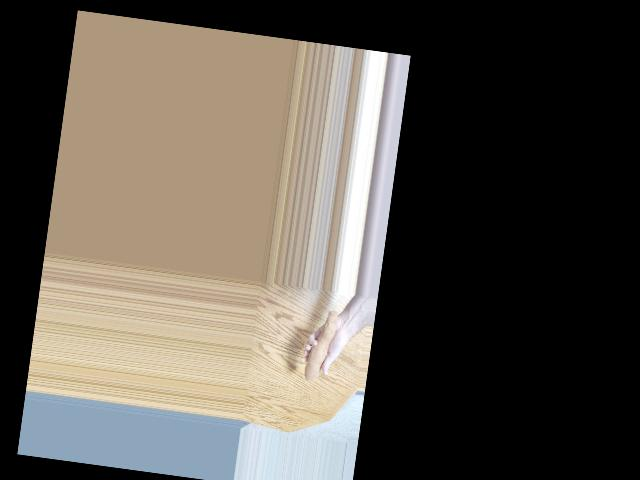sweet_potato: (303, 309, 339, 385)
